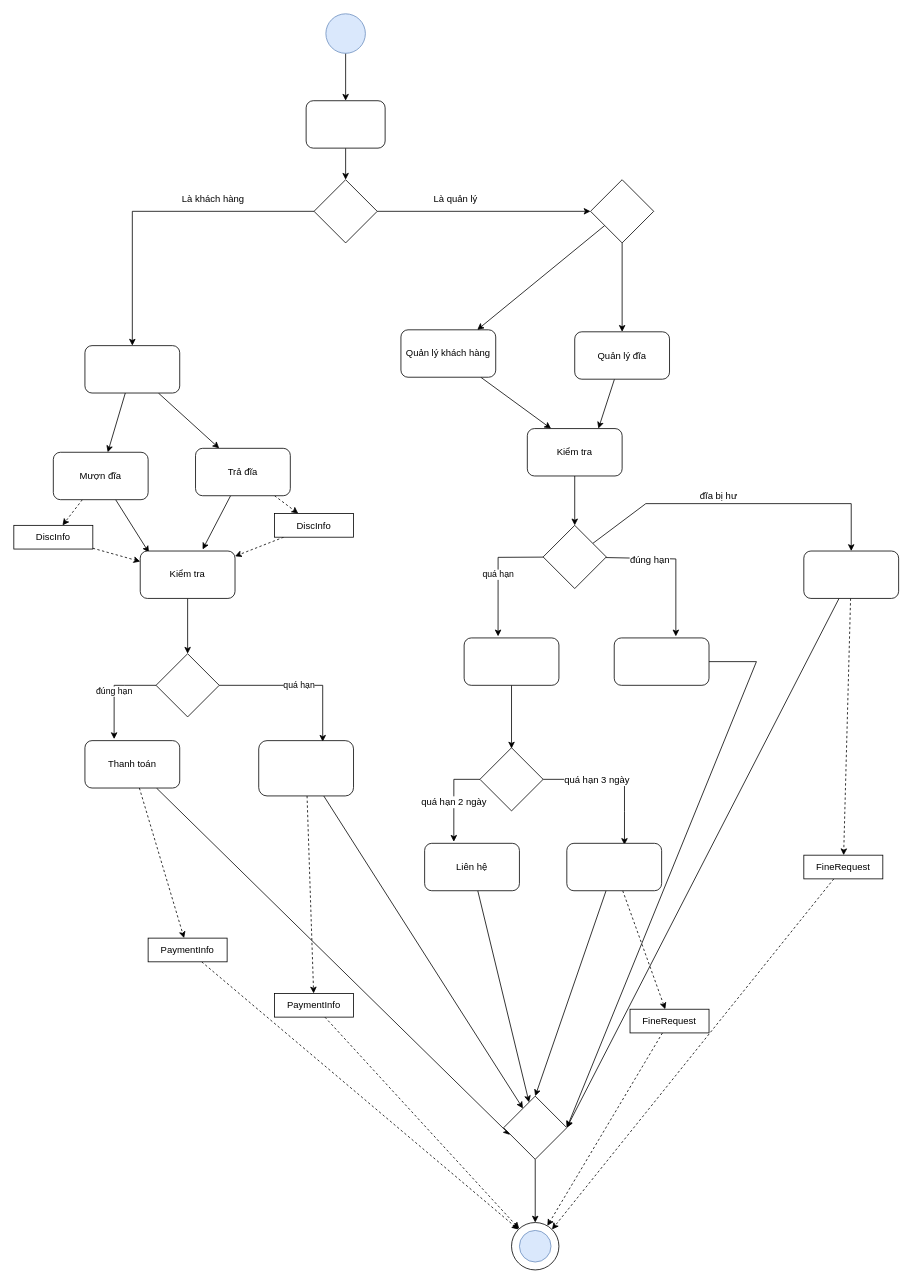
Image size: 912x1284. Some labels were removed from this diagram. The centre of each missing label's shape, as x and y in pixels:
In danh sách: the point at 511,661
Tiếp tục cho mượn: the point at 661,661
Trả đĩa, nộp phạt: the point at 306,768
Yêu cầu nộp phạt: the point at 851,574
Yêu cầu nộp phạt, và không cho mượn: the point at 614,867
Đăng ký là thành viên: the point at 132,369
Đăng nhập: the point at 345,124
